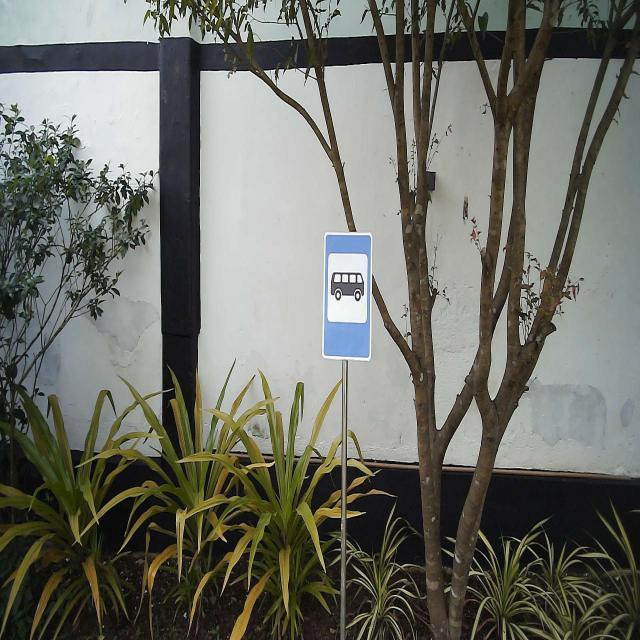bus_stop: (320, 230, 374, 363)
